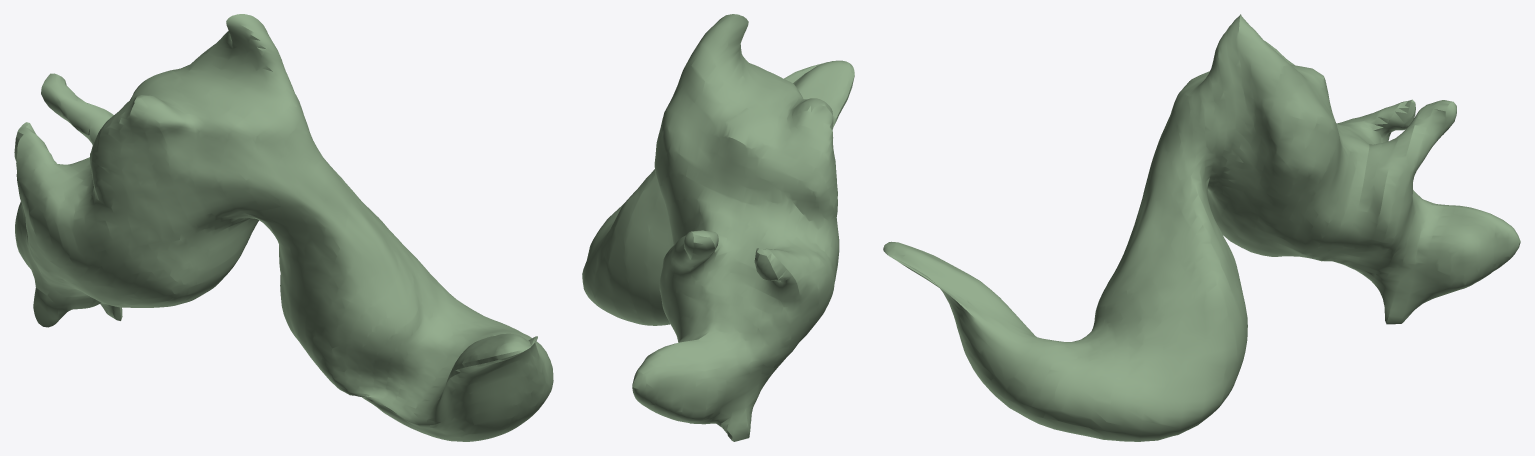
File: squirrel.glb
3 views of the same model, side by side, from view 1: azimuth 30°, elevation 25°; view 2: azimuth 150°, elevation 25°; view 3: azimuth 270°, elevation 25° (orthographic). The views are drawn at different scales.
Visible parts, largest first — view 1: fg-00010; view 2: fg-00010; view 3: fg-00010.
Part boxes in pixels (box(x1,y1,x2,y2)): fg-00010: box(14, 14, 553, 441); fg-00010: box(582, 14, 854, 441); fg-00010: box(883, 14, 1520, 441).
Bounding box in the file's own units: 1.69 × 1.73 × 2.85.
